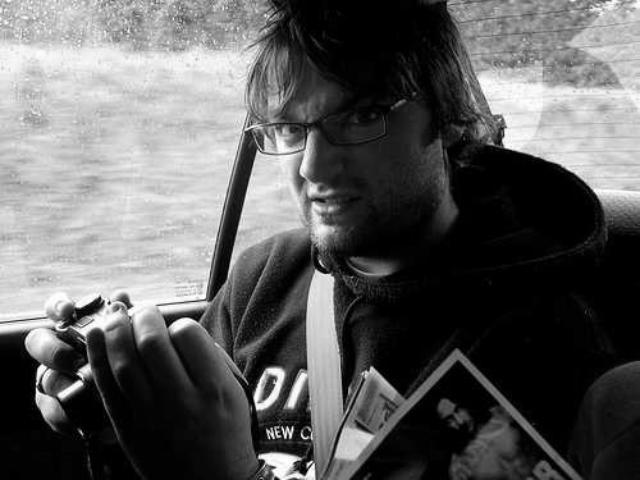SafeDriving: (262, 110, 312, 140)
Seatbelt: (301, 260, 351, 480)
